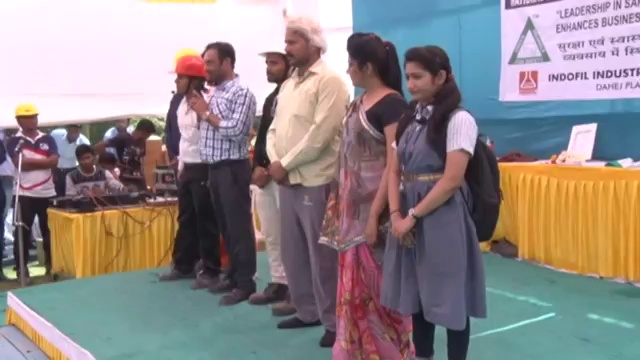helmet: (165, 53, 210, 77), (257, 34, 288, 58), (13, 102, 42, 120)
helmet_off: (399, 43, 458, 112), (339, 31, 396, 95), (277, 17, 326, 68), (197, 42, 238, 87), (69, 138, 97, 171), (132, 118, 155, 146), (97, 151, 118, 176), (65, 123, 83, 143), (111, 118, 130, 133)
helmet_on: (166, 53, 209, 98), (256, 35, 288, 85), (12, 103, 42, 136)
person: (388, 39, 505, 360), (267, 15, 347, 348), (335, 30, 407, 358), (184, 42, 257, 304), (158, 48, 220, 296), (250, 33, 289, 317), (7, 102, 61, 284), (65, 145, 127, 203), (108, 118, 157, 182), (51, 122, 89, 196), (102, 116, 133, 155)
